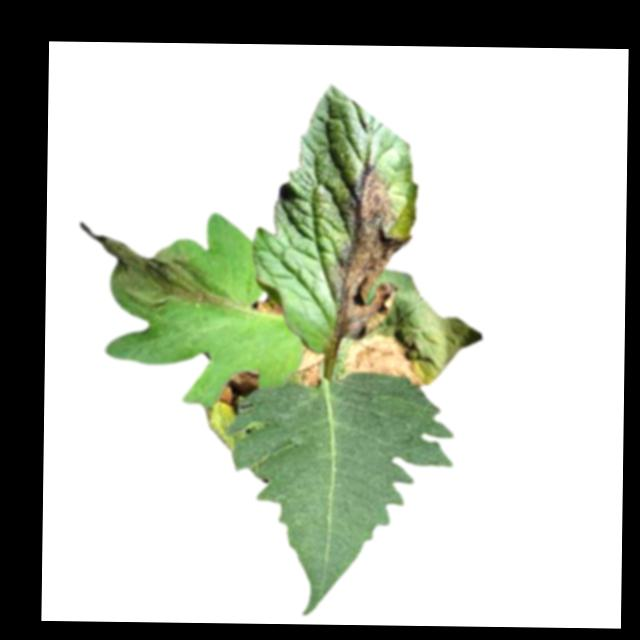Late_blight: (329, 163, 413, 341), (77, 219, 222, 312), (339, 332, 427, 388), (216, 367, 260, 407), (294, 348, 323, 390), (253, 299, 283, 318)
healthy: (226, 370, 458, 618)
